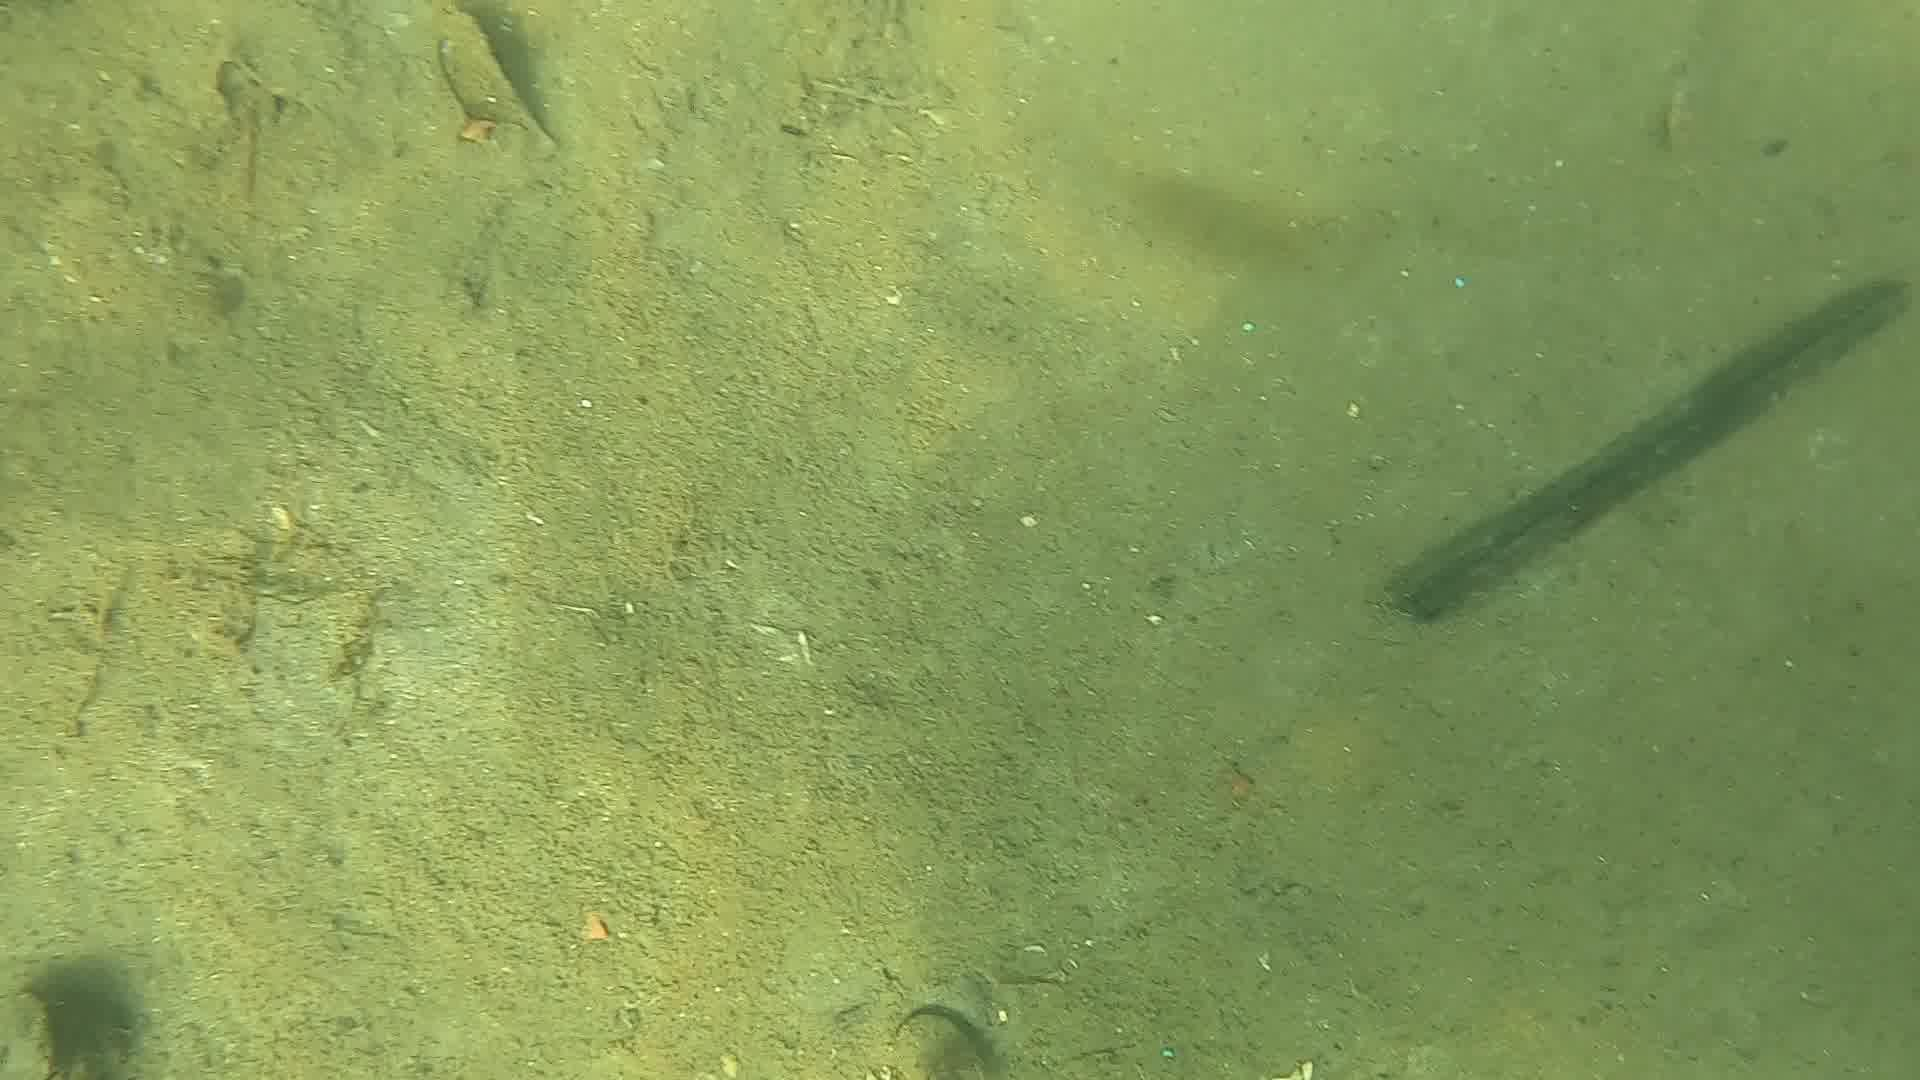wood: (1389, 278, 1907, 618)
